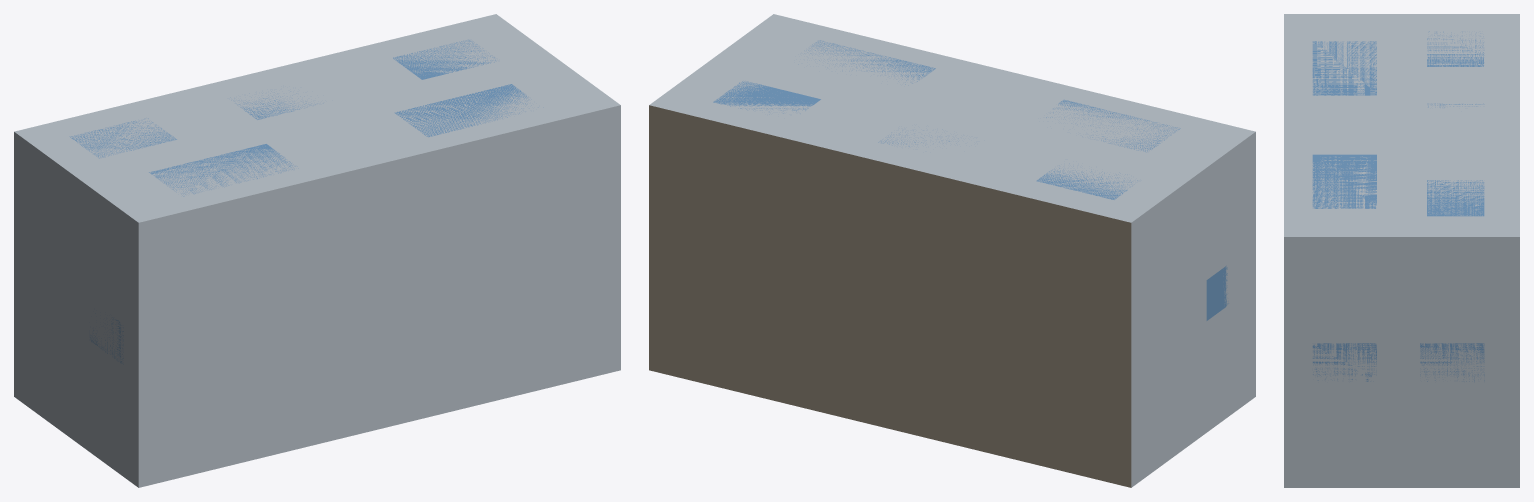
File: building_geometry.glb
3 renders of one model, left to right at view 1: azimuth 30°, elevation 25°; view 2: azimuth 150°, elevation 25°; view 3: azimuth 270°, elevation 25°, orthographic. The views are drawn at different scales.
Parts seen in each view (by area): view 1: world; view 2: world; view 3: world.
Boxes of the visible parts, bbox=[...] form: world: bbox=[14, 14, 620, 487]; world: bbox=[649, 14, 1255, 487]; world: bbox=[1284, 14, 1519, 487].
Size of the model in its own units: 14.75 by 7.75 by 6.6.
